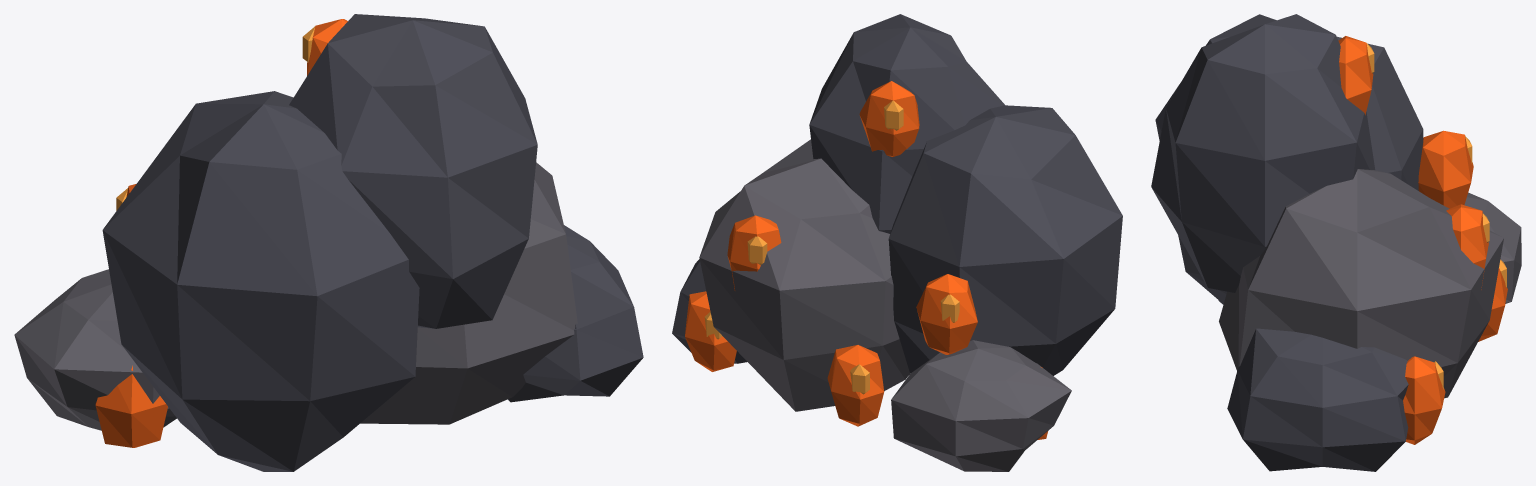
Rendered from CopperOutcrop.obj.
3 views of the same model, side by side, from view 1: azimuth 30°, elevation 25°; view 2: azimuth 150°, elevation 25°; view 3: azimuth 270°, elevation 25° (orthographic). The views are drawn at different scales.
Visible parts, largest first — view 1: rock_0, rock_2, rock_1, rock_3, rock_4, copper_5, copper_4; view 2: rock_0, rock_1, rock_2, rock_3, copper_0, copper_1, copper_4, copper_3, copper_2, rock_4, copper_highlight_4, copper_highlight_2 (+1 smaller); view 3: rock_2, rock_1, rock_4, rock_0, copper_0, copper_3, rock_3, copper_4, copper_2, copper_1.
Part boxes in pixels (x1,y1,x2,y2): rock_0: (102,91,419,471); rock_2: (289,14,537,328); rock_1: (360,162,577,424); rock_3: (14,269,176,430); rock_4: (508,225,643,402); copper_5: (95,365,167,447); copper_4: (307,19,347,75); rock_0: (888,105,1122,375); rock_1: (699,139,909,411); rock_2: (809,14,1004,233); rock_3: (891,340,1071,471); copper_0: (916,274,977,354); copper_1: (827,345,884,426); copper_4: (859,81,919,156); copper_3: (685,291,736,371); copper_2: (727,215,781,290); rock_4: (672,259,747,363); copper_highlight_4: (884,100,903,130); copper_highlight_2: (747,236,767,265); rock_2: (1151,14,1375,292); rock_1: (1219,169,1503,398); rock_4: (1227,328,1408,471); rock_0: (1155,14,1423,304); copper_0: (1418,130,1473,208); copper_3: (1403,356,1445,444); rock_3: (1464,192,1521,303); copper_4: (1338,36,1373,115); copper_2: (1446,204,1488,289); copper_1: (1478,268,1507,341).
Size of the model in its own units: 4.47 by 3.55 by 3.22.
